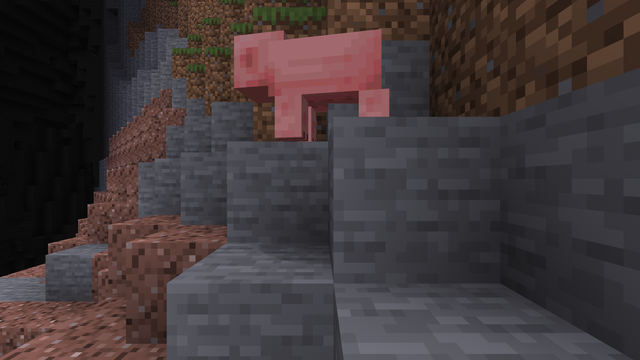cochons: (274, 22, 384, 144)
